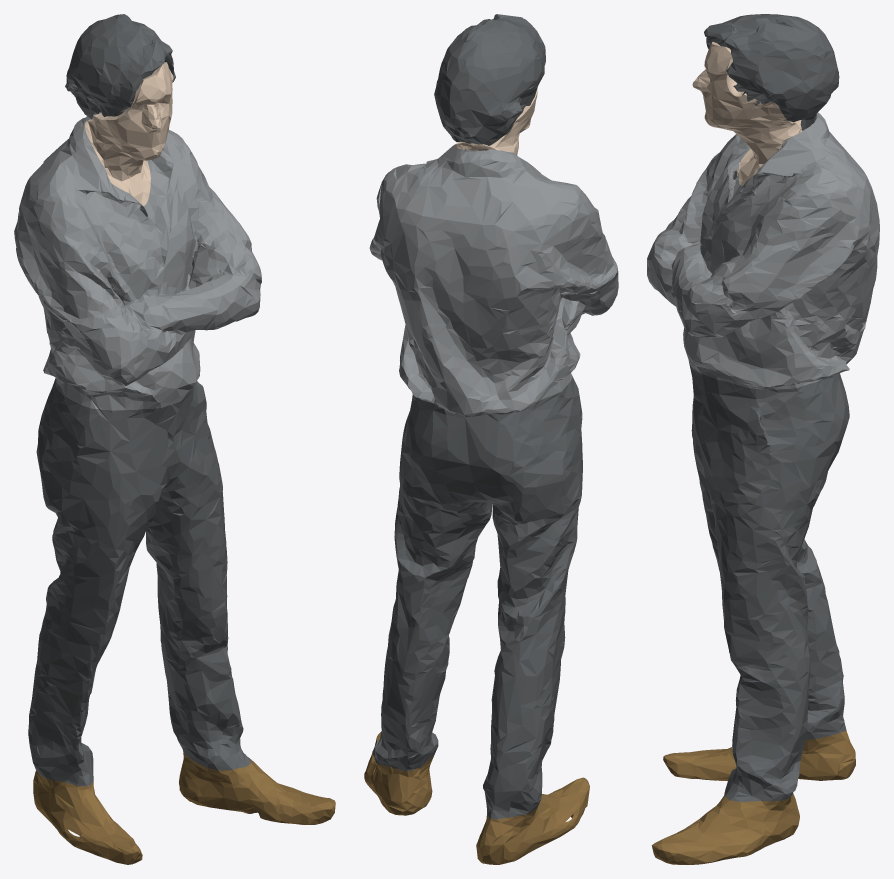
The model's file is human2.gltf.
The picture shows the model from 3 angles, left to right: view 1: azimuth 30°, elevation 25°; view 2: azimuth 150°, elevation 25°; view 3: azimuth 270°, elevation 25°; orthographic projection. The views are drawn at different scales.
Visible parts, largest first — view 1: Mesh_Mesh_head_geo.001_lambert2SG.001; view 2: Mesh_Mesh_head_geo.001_lambert2SG.001; view 3: Mesh_Mesh_head_geo.001_lambert2SG.001.
Part boxes in pixels (left/top/right/bottom): Mesh_Mesh_head_geo.001_lambert2SG.001: left=14, top=14, right=335, bottom=864; Mesh_Mesh_head_geo.001_lambert2SG.001: left=364, top=14, right=618, bottom=864; Mesh_Mesh_head_geo.001_lambert2SG.001: left=647, top=14, right=879, bottom=864.
Size of the model in its own units: 26 by 78 by 21.12.
